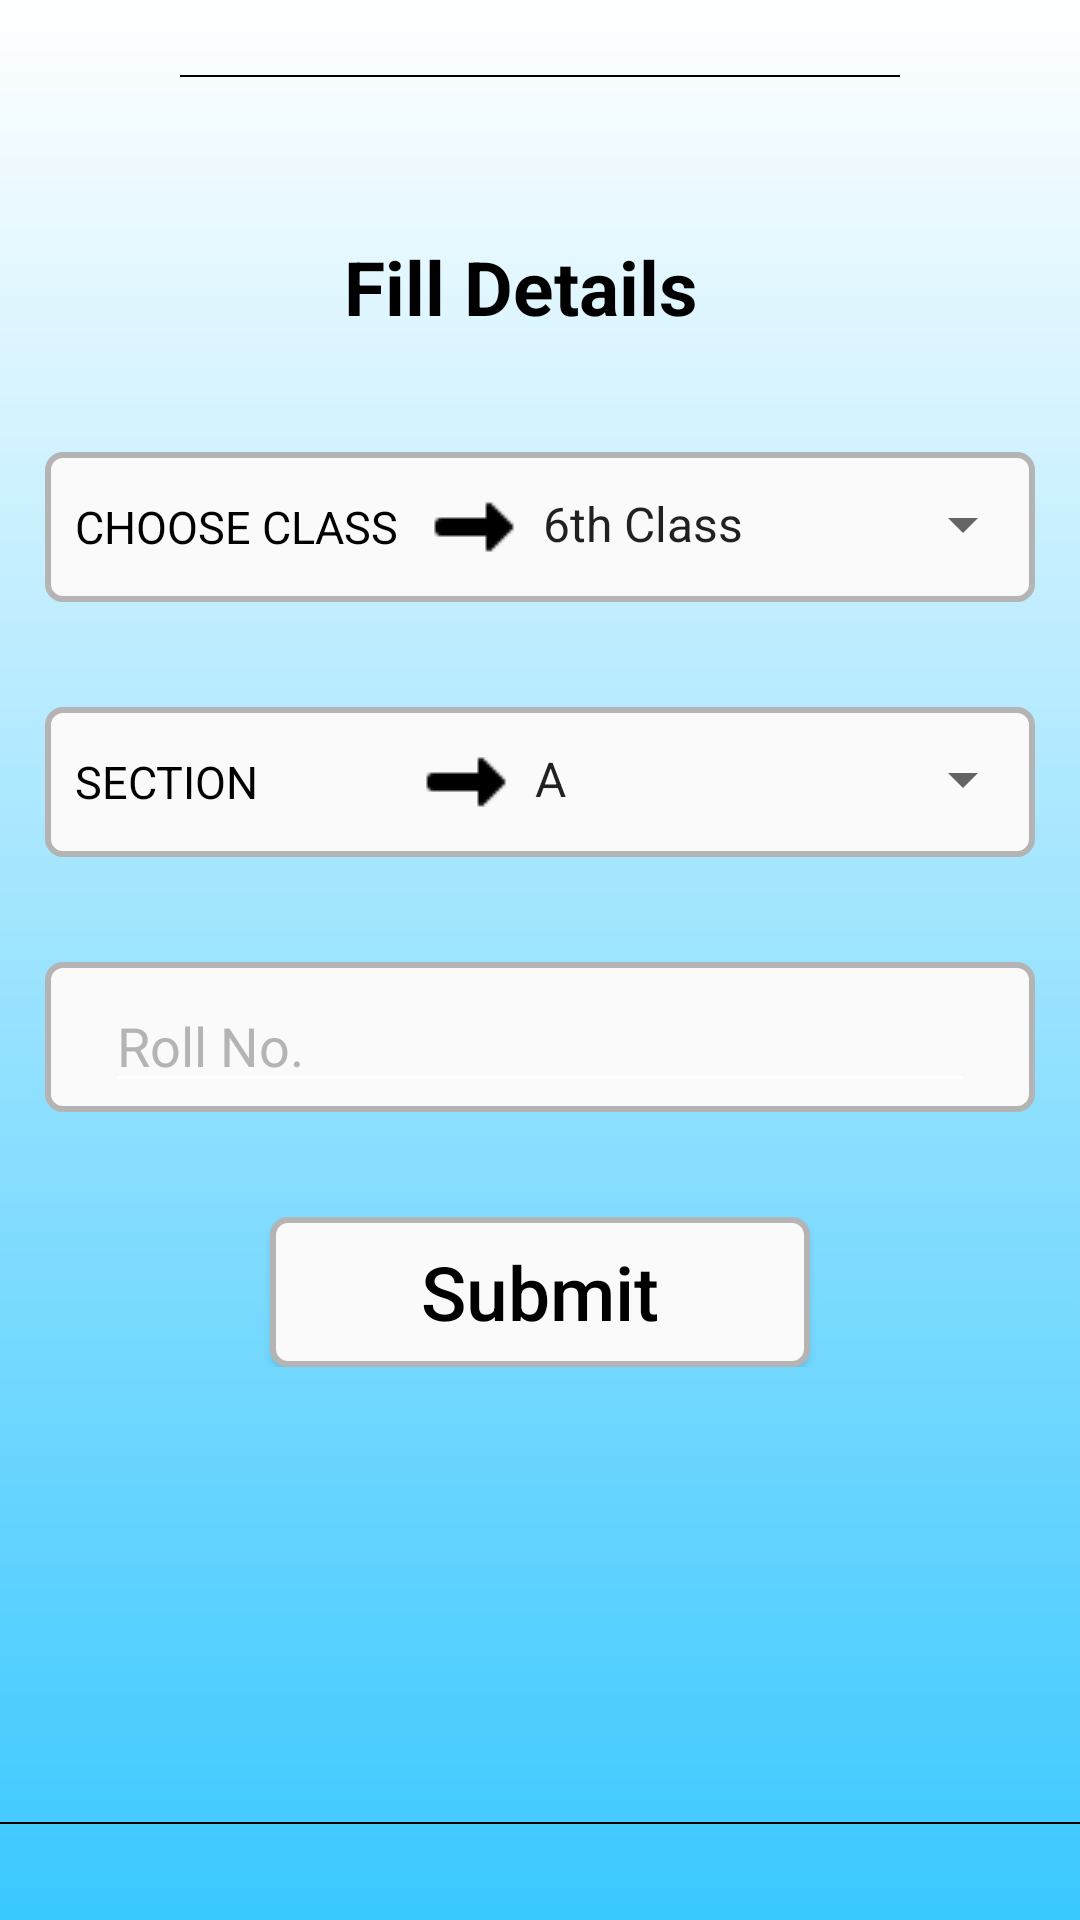

Named icons in this screenshot (1080 x 1920) and their centers, point (x, y):
right: point (474, 527), point (466, 782)
